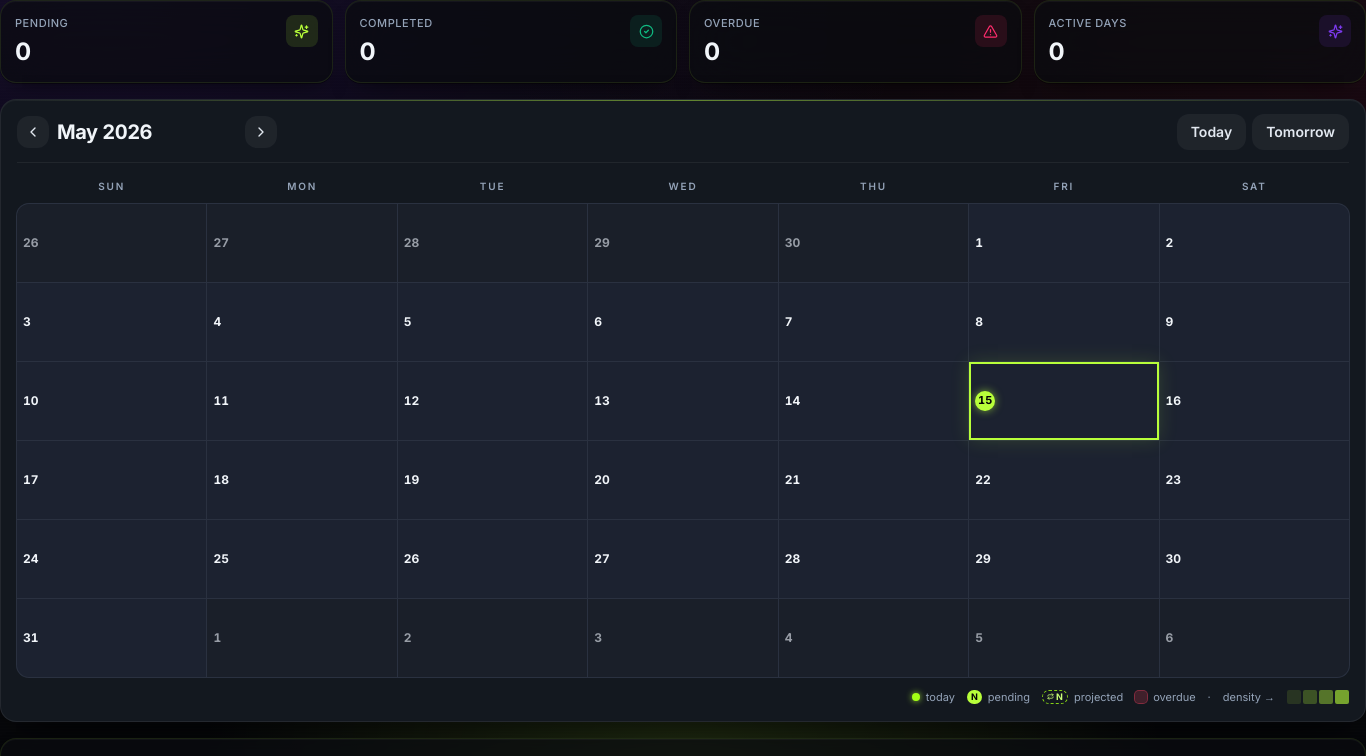
Scenario: Calendar · navigation › Previous button goes back one month
Step 1. Click the button titled "Previous month" → (33, 132), box [17,116,49,148]
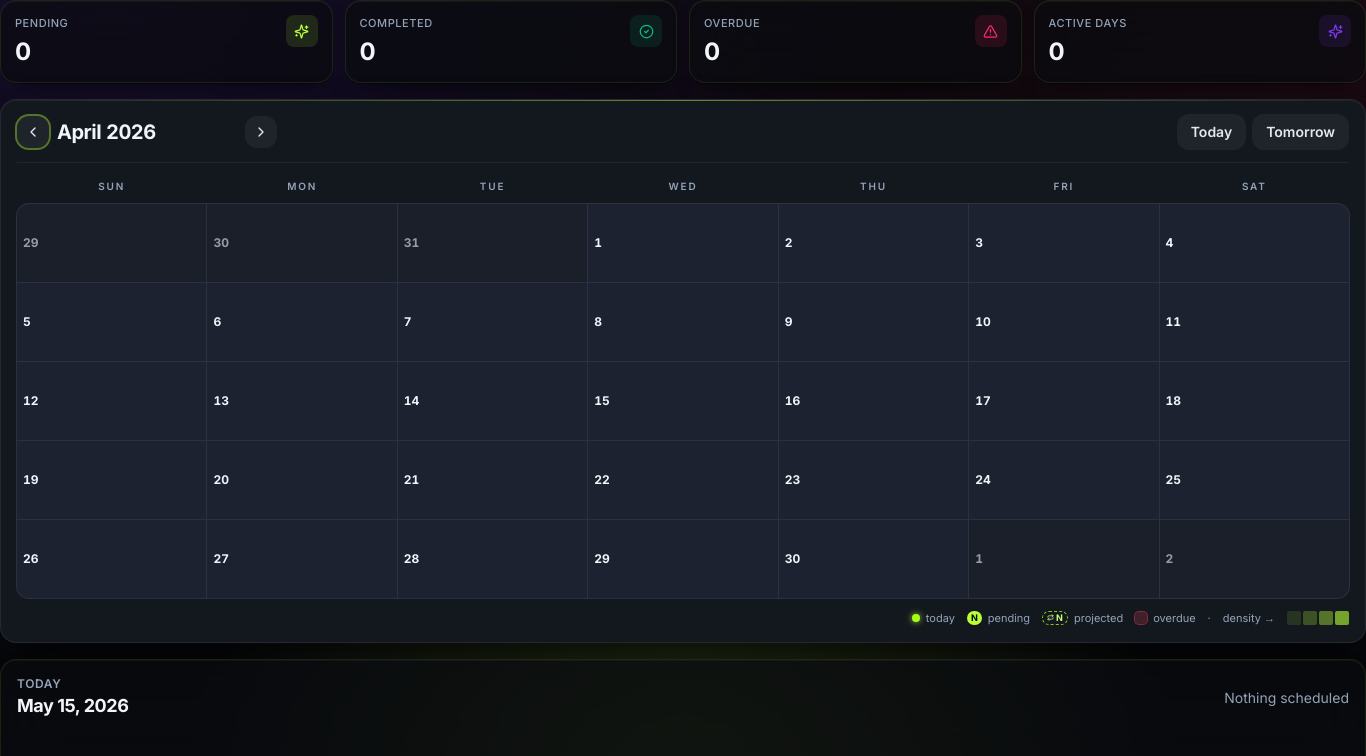
Result: the heading "April 2026" is shown at [57,120,156,144]
